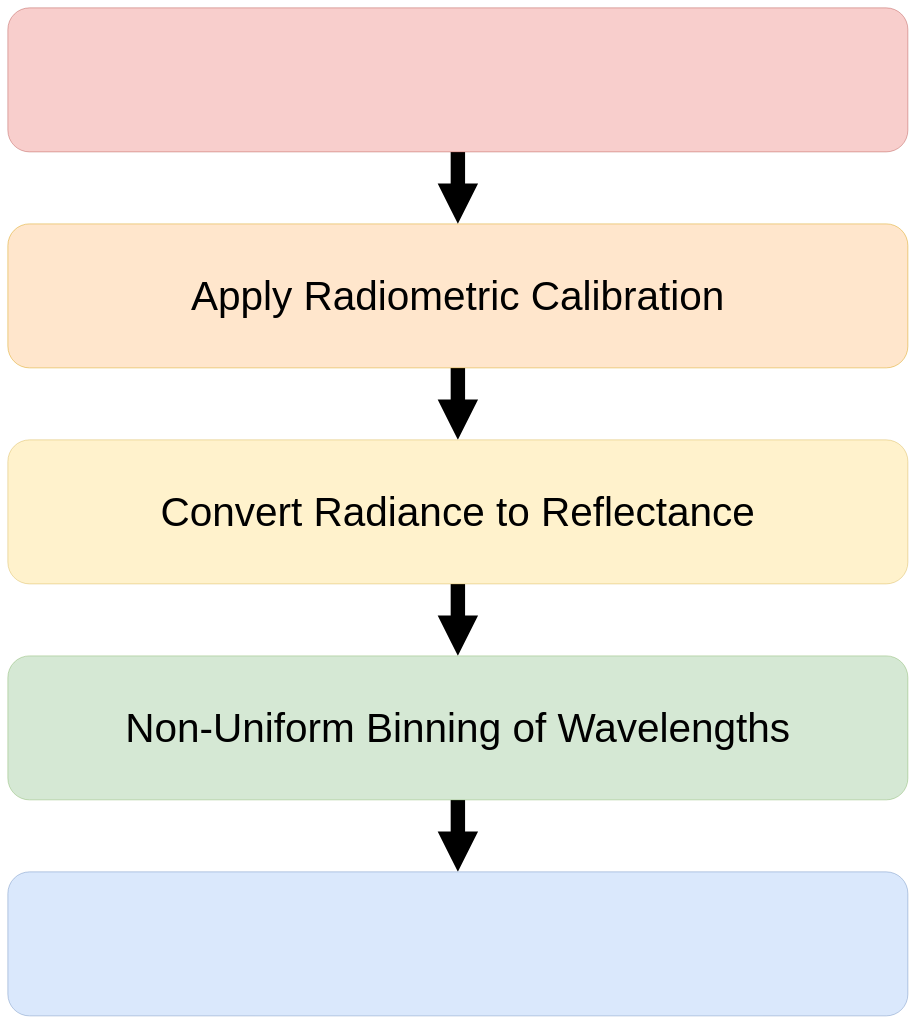
Image size: 916x1024. Some labels were removed from this diagram. The centre of each missing label's shape, as x and y in pixels:
Hyperspectral Machine Learning Classification: point 457,943
Receive Binary Values From Sensor: point 457,79
